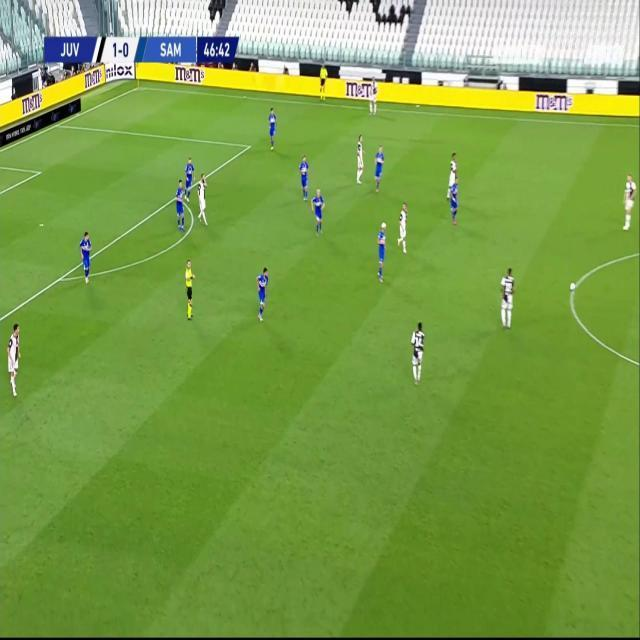ball: (569, 280, 577, 292)
player: (5, 317, 21, 397), (499, 264, 516, 332), (409, 320, 426, 385), (619, 169, 636, 231), (255, 264, 270, 324), (447, 153, 460, 221), (376, 219, 389, 283), (194, 171, 209, 225), (79, 228, 93, 285), (311, 187, 326, 236), (396, 200, 409, 255), (174, 177, 187, 231), (373, 144, 386, 191), (298, 154, 310, 202), (355, 133, 366, 185), (267, 105, 278, 151), (185, 156, 195, 197), (369, 76, 377, 114)
referee: (183, 255, 196, 319), (318, 62, 328, 100)
